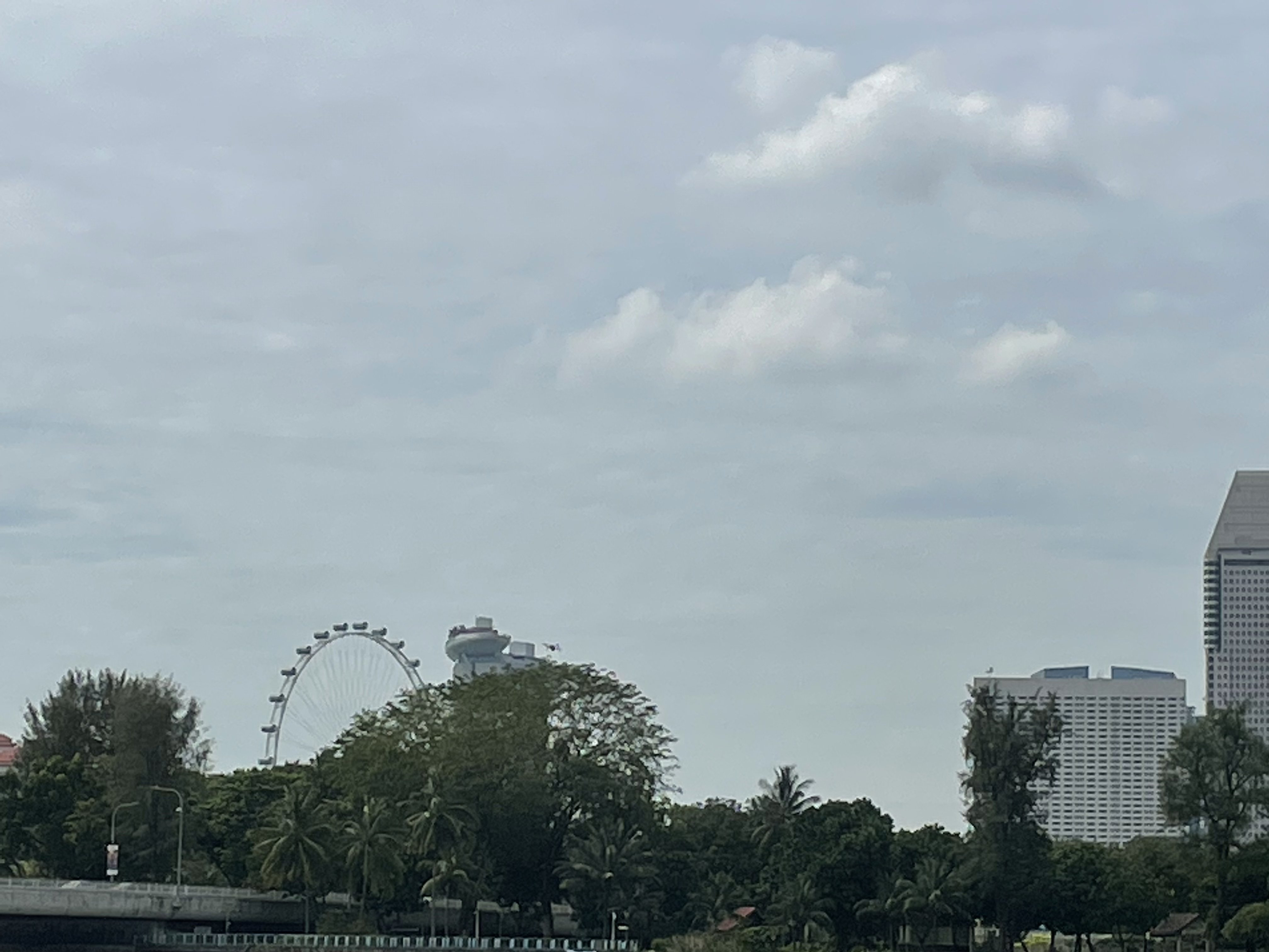drone_other: (541, 641, 562, 653)
